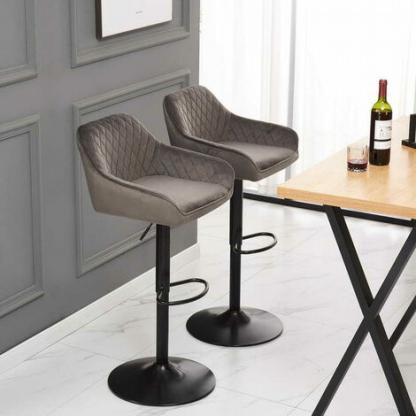chair: (59, 110, 216, 412), (183, 84, 300, 349)
door: (0, 0, 200, 353)
table: (249, 93, 416, 416)
